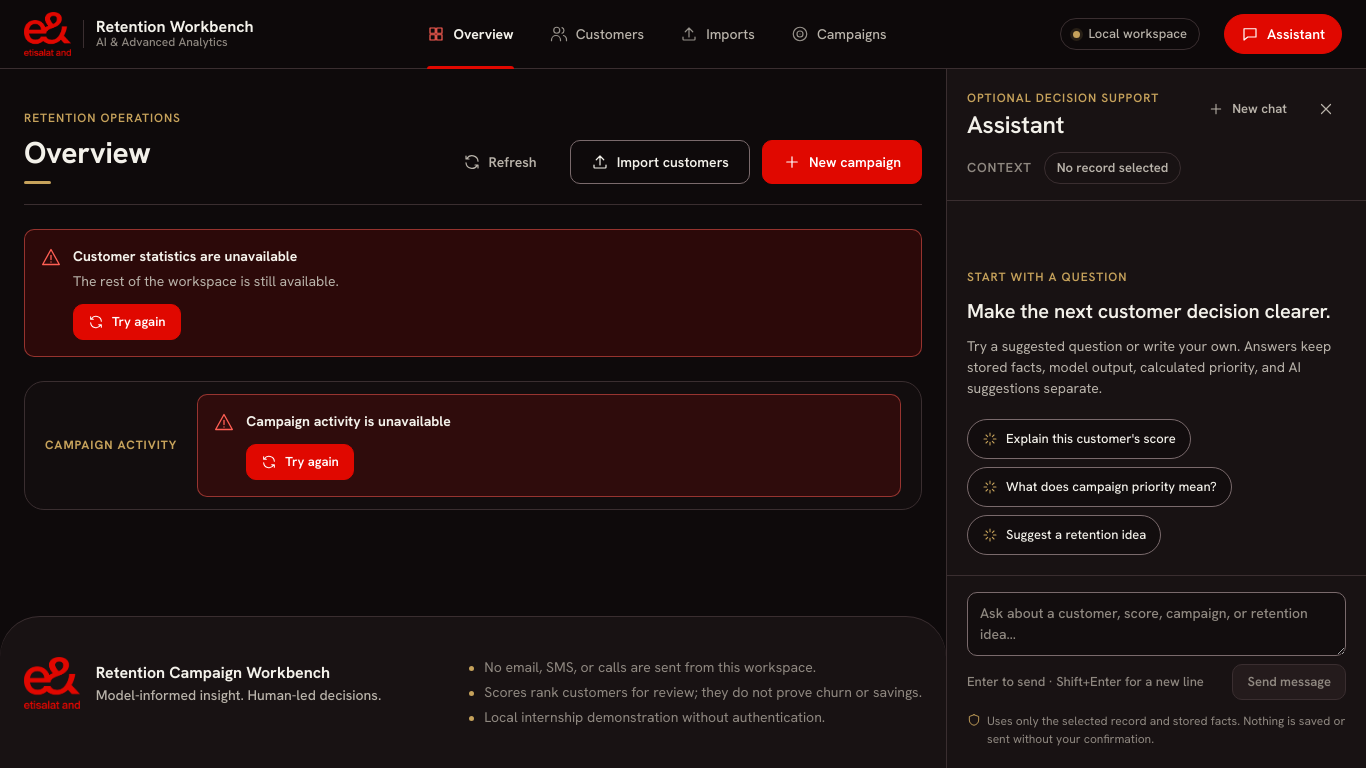
Test: chat browser journey › cancels a staged preview with its one-time token
Expected: the heading "Assistant" is shown, [967, 109, 1064, 140]
Expected: the button "New chat" is enabled, [1193, 91, 1302, 127]
Type "Prepare an update" into the text box named "Message the assistant" at (1156,624), box [967, 592, 1346, 656]
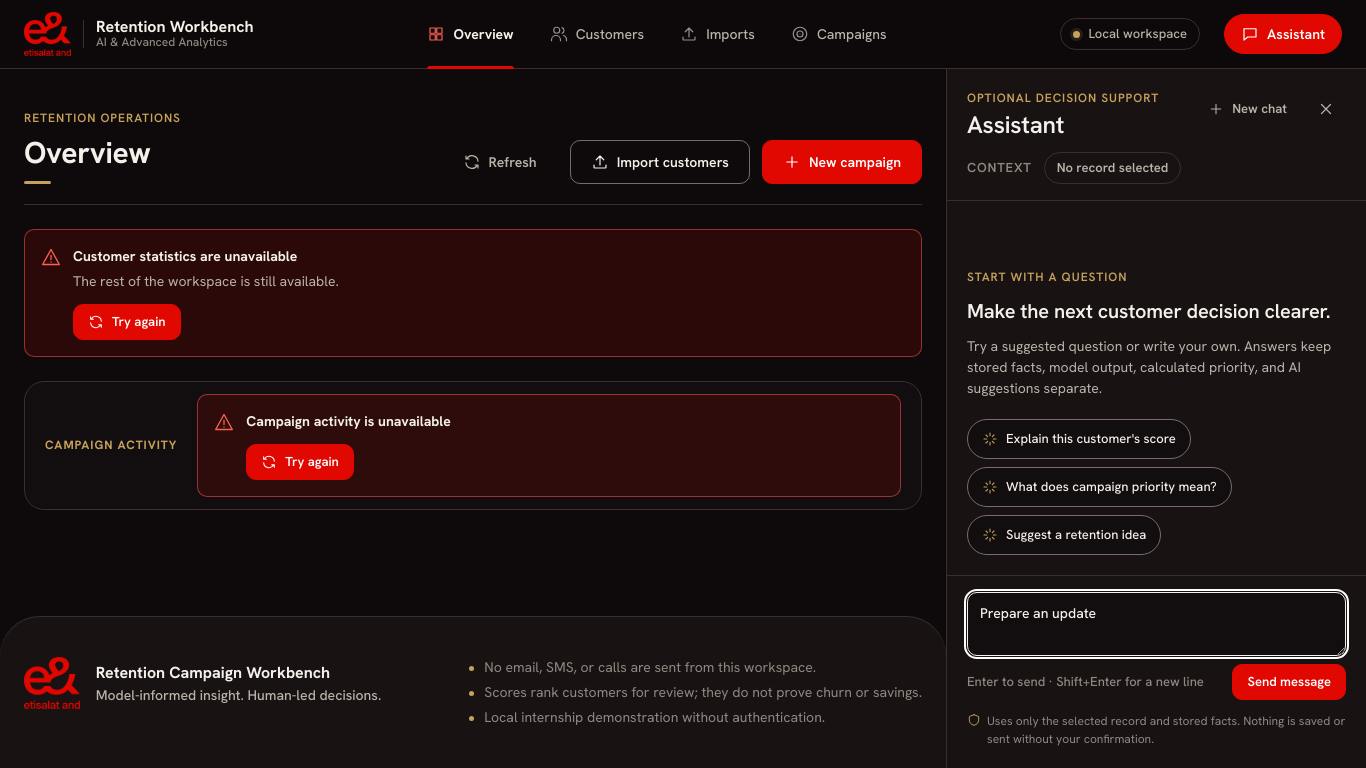
Now the button "Send message" is enabled
Click the button "Send message" at (1289,682), box [1232, 664, 1346, 700]
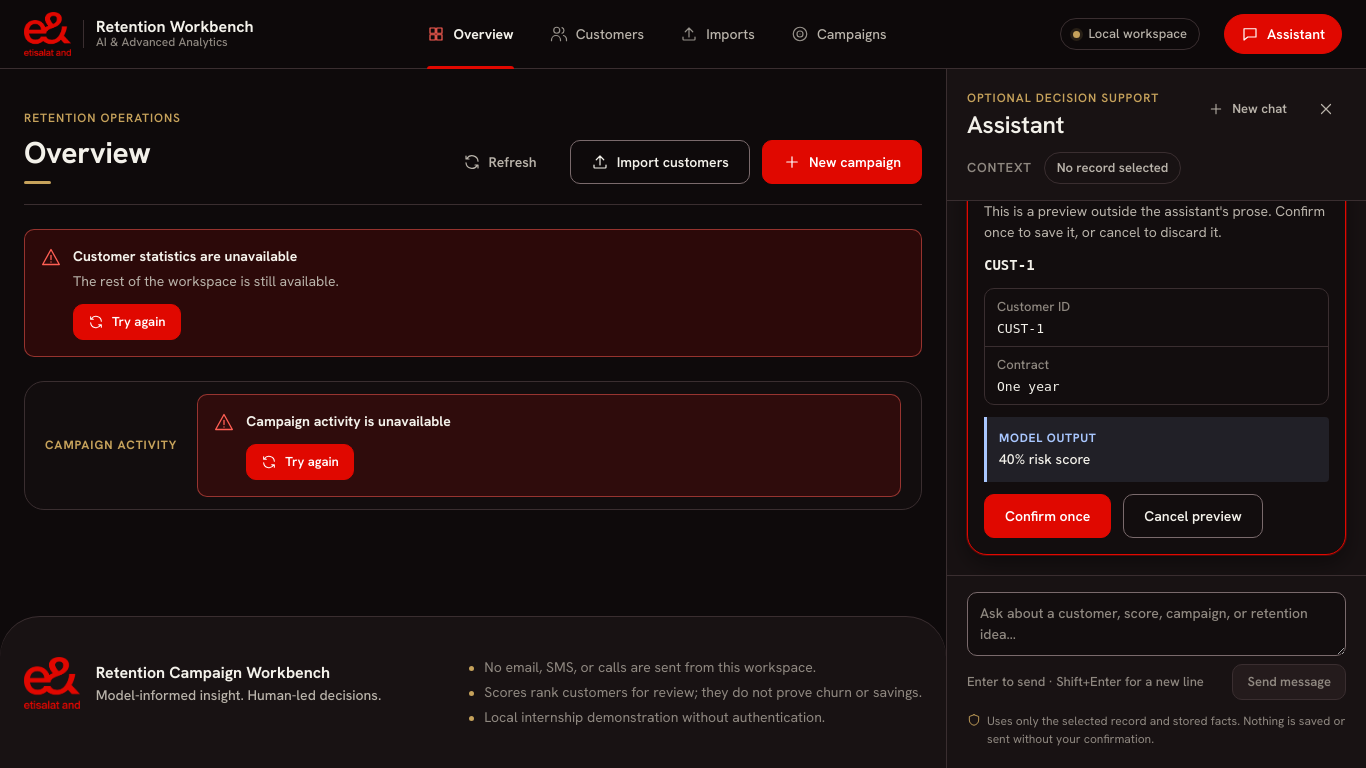
Click the button "Cancel preview" at (1193,516), box [1123, 494, 1263, 538]
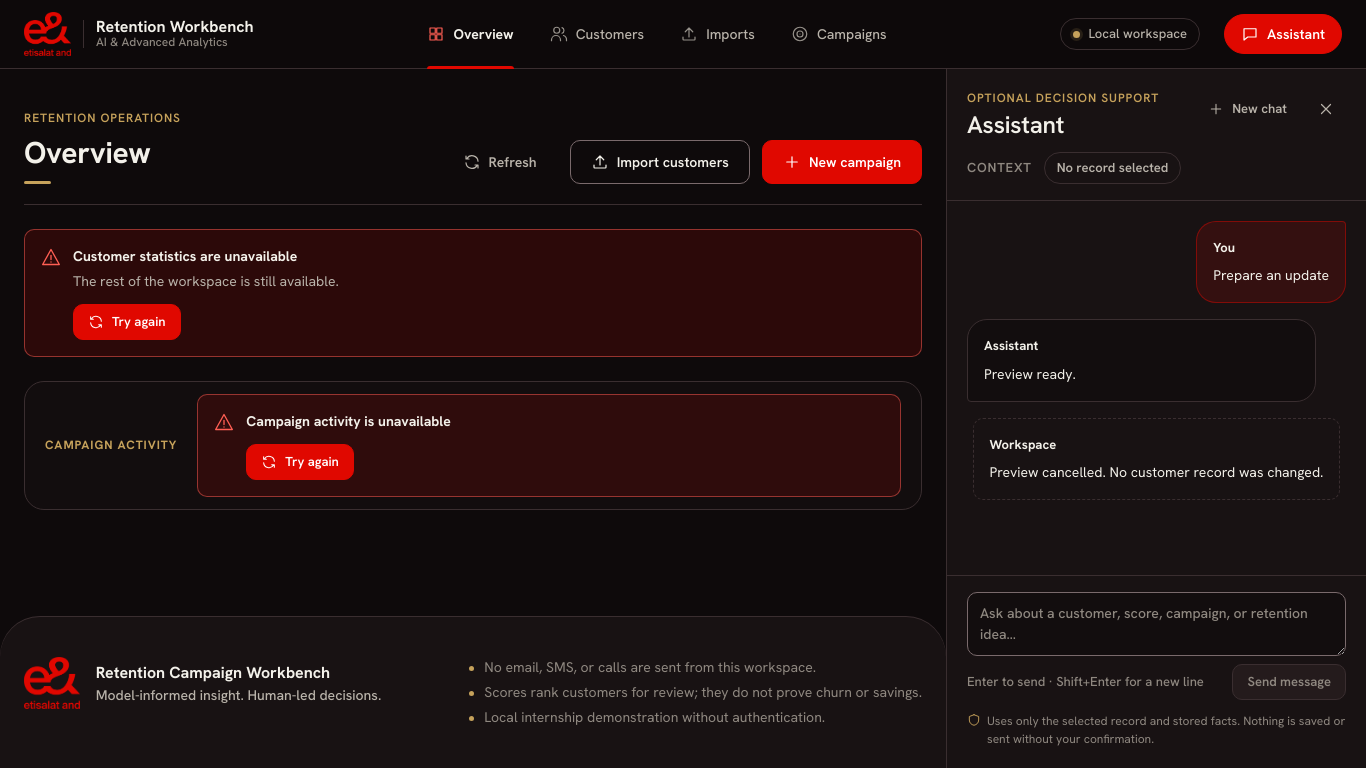
Now the text "Preview cancelled. No customer record was changed." is shown, box [990, 462, 1324, 483]
